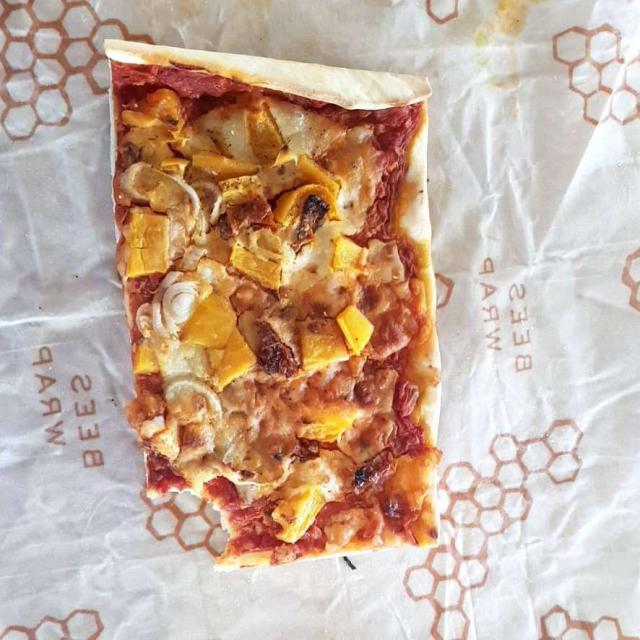pizza-with-vegetables-baked: (117, 58, 437, 559)
